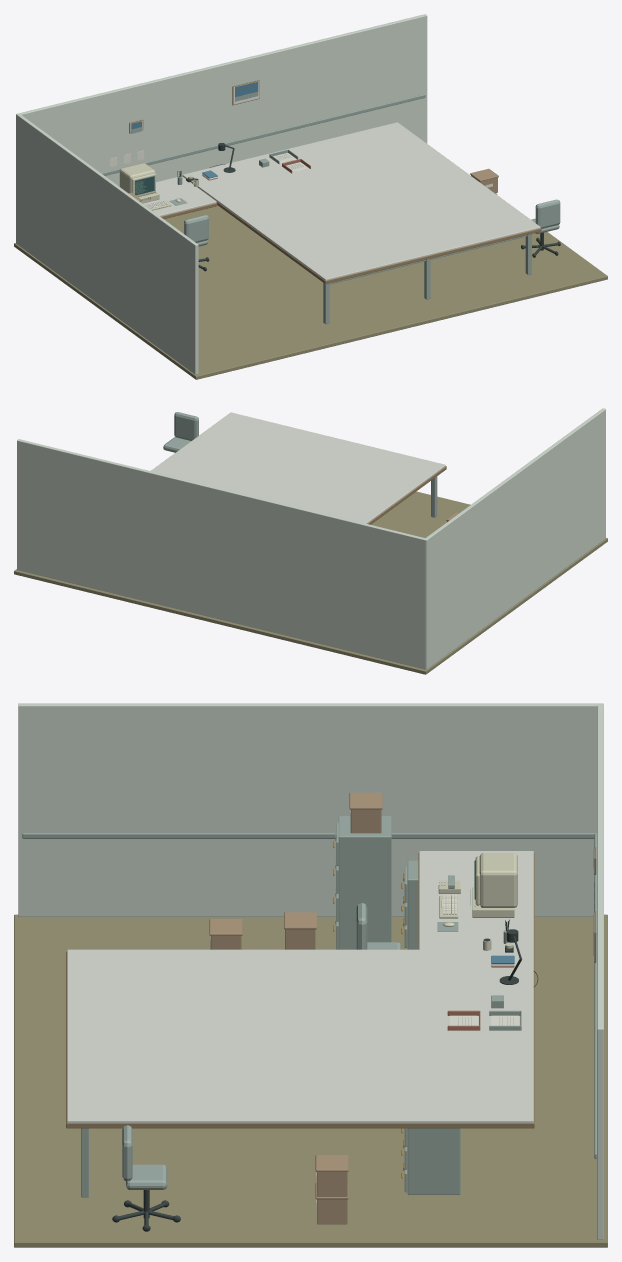
Rendered from office-expanded-editable.glb.
3 renders of one model, top to bottom at view 1: azimuth 30°, elevation 25°; view 2: azimuth 150°, elevation 25°; view 3: azimuth 270°, elevation 25°, orthographic. The views are drawn at different scales.
Visible parts, largest first — view 1: back wall, floor, desk right, left wall, desk left, desk right edge, wall trim, chair back.001, chair back, CRT housing; view 2: back wall, left wall, desk right, floor, chair back.001; view 3: left wall, floor, desk right, desk left, filing cabinet, back wall, pedestal.001, desk right edge, left wall trim, CRT housing, pedestal, chair cushion.001 (+4 smaller).
Boxes of the visible parts, bbox=[...] form: back wall: bbox=[19, 14, 427, 186]; floor: bbox=[14, 206, 607, 379]; desk right: bbox=[182, 122, 540, 280]; left wall: bbox=[16, 113, 198, 374]; desk left: bbox=[143, 176, 216, 216]; desk right edge: bbox=[182, 176, 541, 283]; wall trim: bbox=[101, 94, 425, 175]; chair back.001: bbox=[535, 199, 560, 228]; chair back: bbox=[184, 215, 208, 242]; CRT housing: bbox=[119, 163, 155, 193]; back wall: bbox=[17, 439, 426, 669]; left wall: bbox=[425, 408, 605, 669]; desk right: bbox=[151, 412, 445, 523]; floor: bbox=[14, 491, 607, 674]; chair back.001: bbox=[174, 412, 198, 440]; left wall: bbox=[18, 703, 603, 916]; floor: bbox=[14, 914, 607, 1247]; desk right: bbox=[67, 949, 533, 1122]; desk left: bbox=[419, 851, 533, 949]; filing cabinet: bbox=[338, 816, 391, 949]; back wall: bbox=[597, 704, 603, 1239]; pedestal.001: bbox=[407, 1128, 460, 1194]; desk right edge: bbox=[66, 951, 534, 1128]; left wall trim: bbox=[22, 833, 596, 838]; CRT housing: bbox=[479, 853, 517, 907]; pedestal: bbox=[407, 860, 418, 949]; chair cushion.001: bbox=[126, 1164, 167, 1189].
Bounding box in the file's own units: 7.31 × 2.27 × 5.6.
